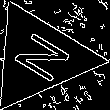N_SE: (4, 27, 75, 88)
